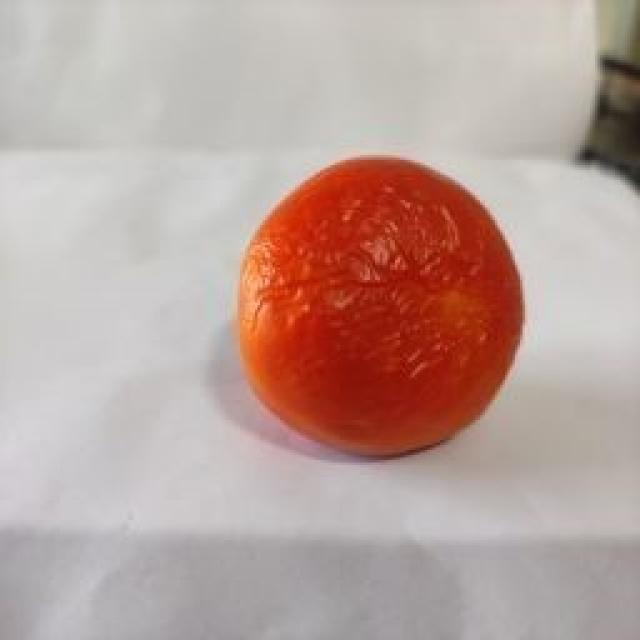overripe: (234, 152, 528, 455)
